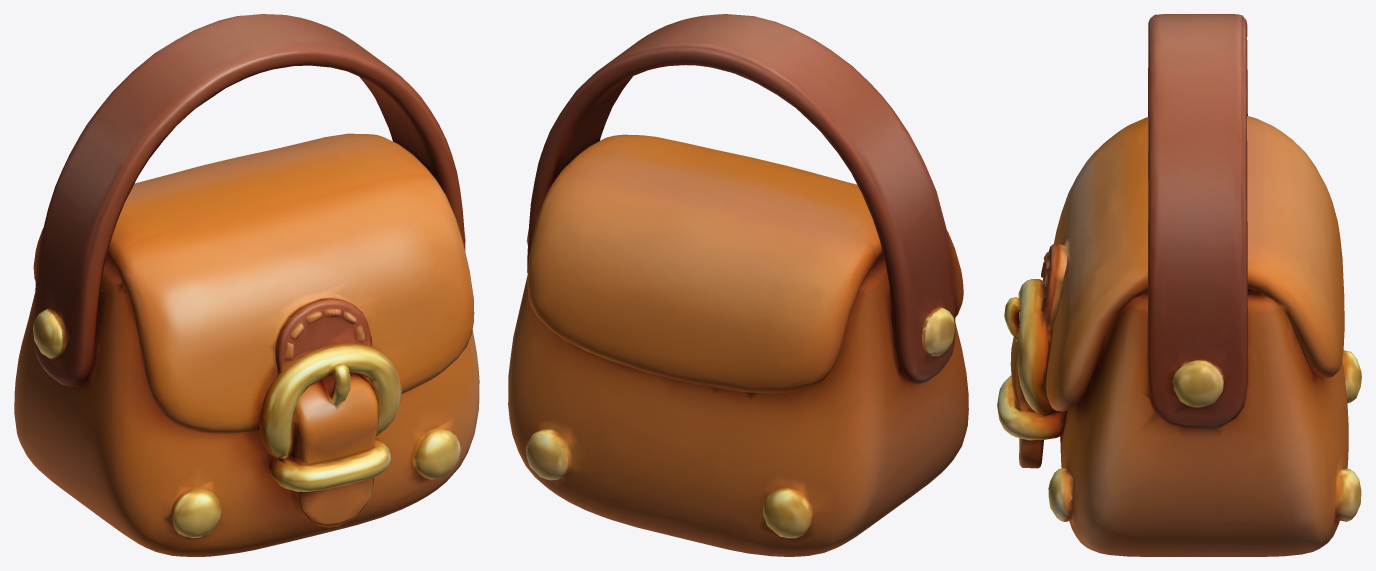
File: bp-adv-bag.glb
3 renders of one model, left to right at view 1: azimuth 30°, elevation 25°; view 2: azimuth 150°, elevation 25°; view 3: azimuth 270°, elevation 25°, orthographic.
Visible parts, largest first — view 1: tripo_node_aedfb915-0391-418e-a312-966341321216; view 2: tripo_node_aedfb915-0391-418e-a312-966341321216; view 3: tripo_node_aedfb915-0391-418e-a312-966341321216.
Boxes of the visible parts, box(x1,y1,x2,y2) form: tripo_node_aedfb915-0391-418e-a312-966341321216: box(14, 14, 479, 556); tripo_node_aedfb915-0391-418e-a312-966341321216: box(508, 14, 968, 556); tripo_node_aedfb915-0391-418e-a312-966341321216: box(997, 14, 1361, 556).
Size of the model in its own units: 0.9389 by 1 by 0.6994.
Materials: 1 (1 with a texture image).
